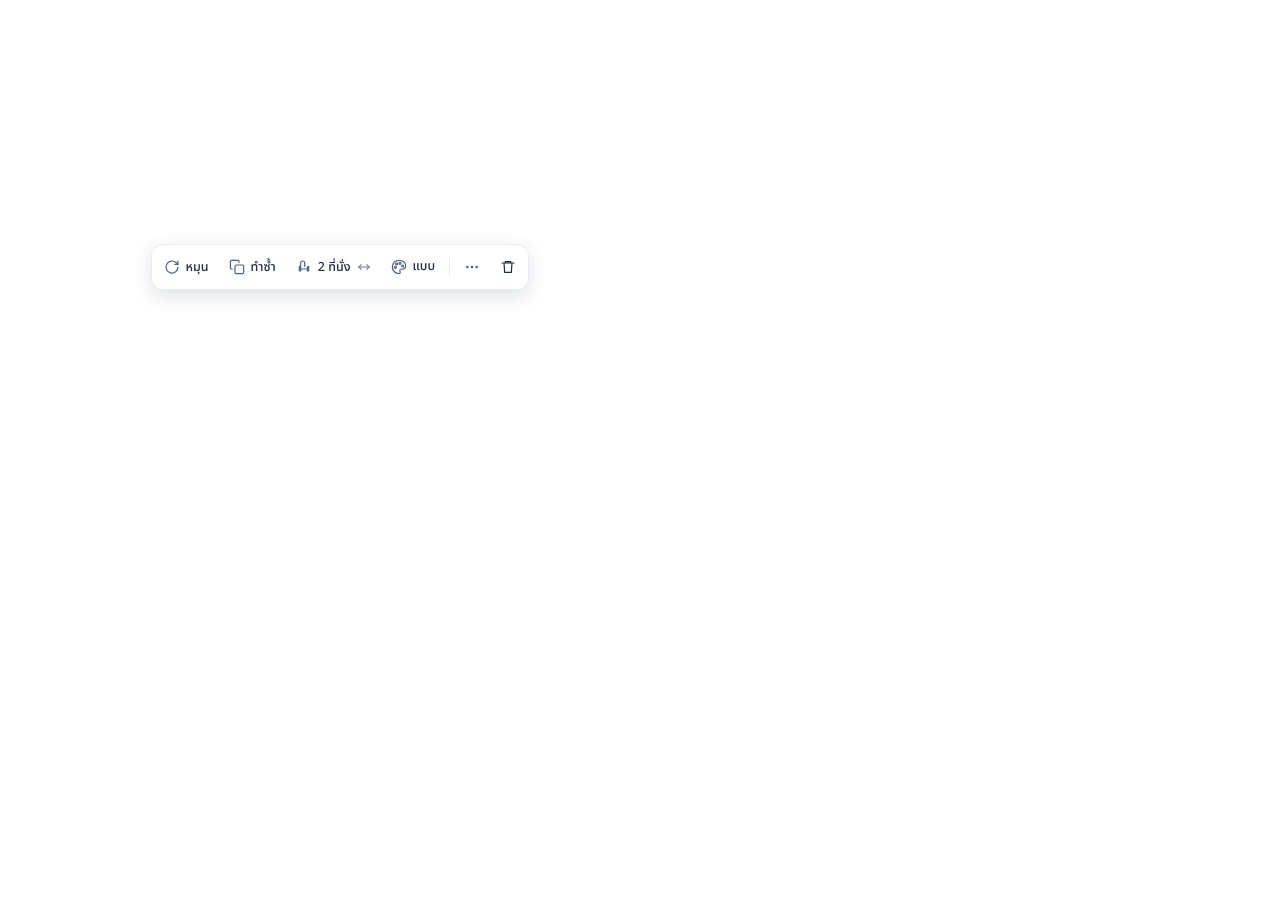
Test case: SelectionToolbar Component › ย้ายโฟกัสจากช่อง X ไป Y ป๊อปโอเวอร์ยังเปิดอยู่ — นำไปใช้ทั้งคู่เมื่อโฟกัสออกจากป๊อปโอเวอร์
The width and height of the screenshot is (1280, 900).
Click the button named "ปรับละเอียด". click: [472, 267]
box: [456,251,488,283]
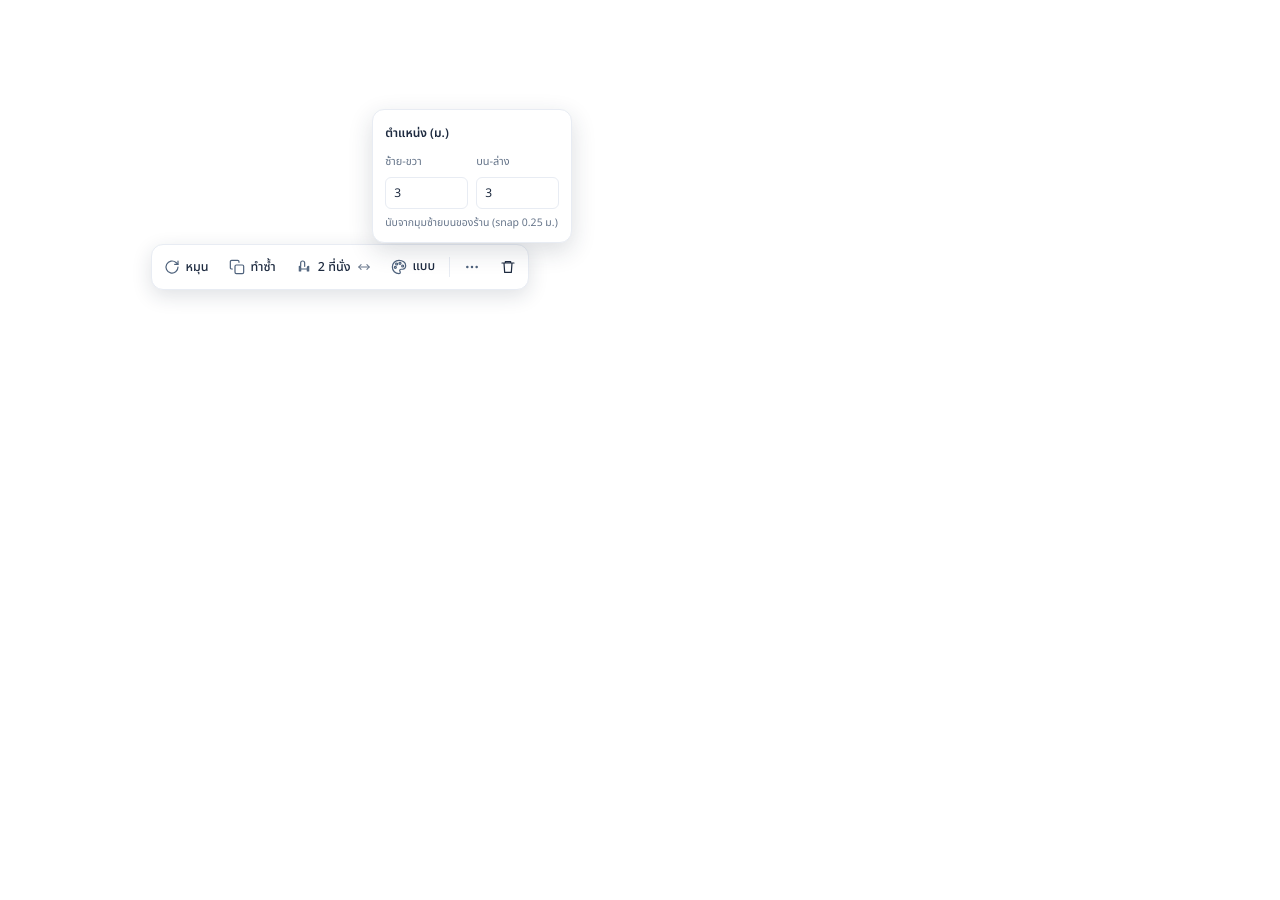
Replace the text in the number field labelled "ซ้าย-ขวา" with "2". click: [427, 193]
box: [385,177,468,209]
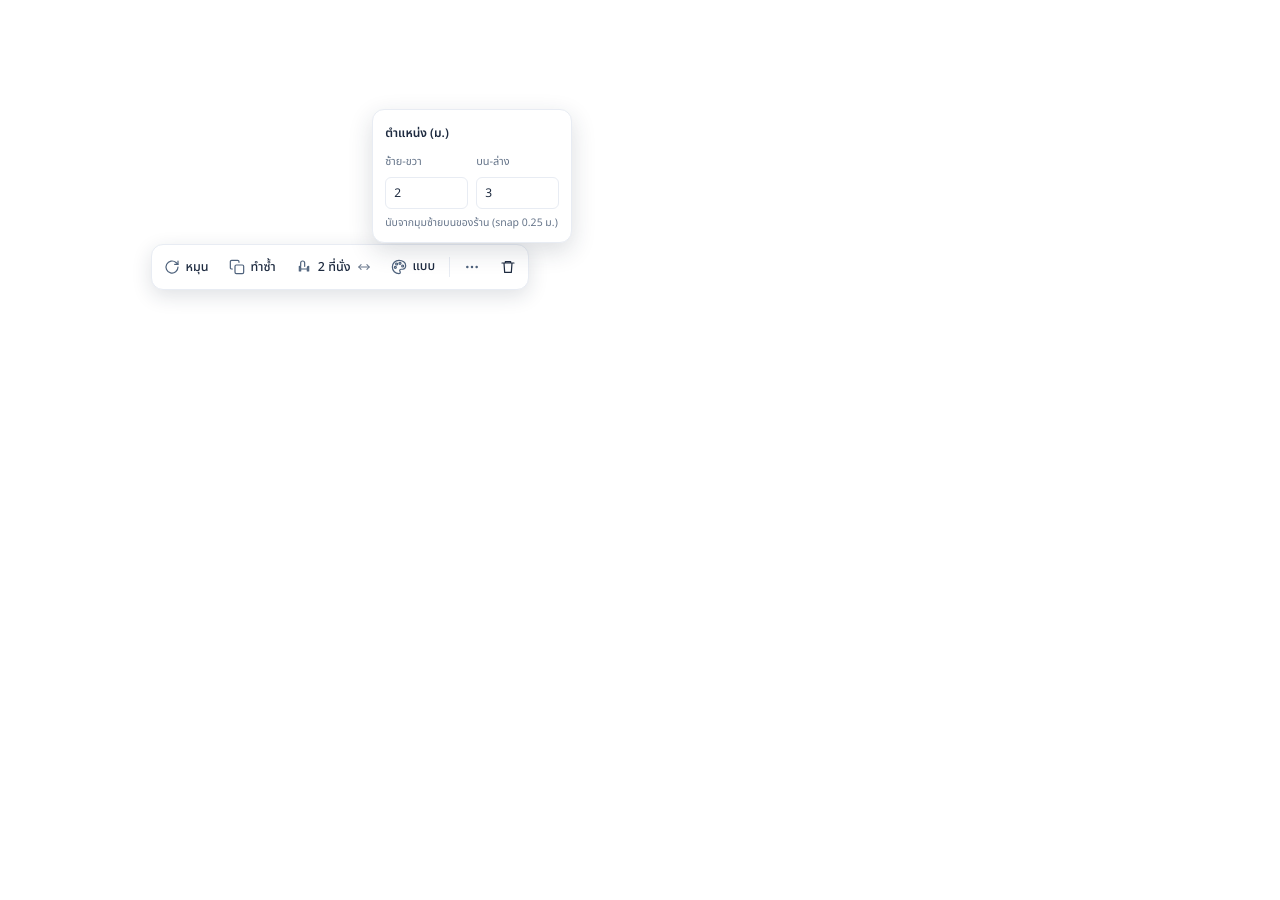
Expected: the dialog named "ปรับตำแหน่งละเอียด" is shown, [372,109,572,243]
Replace the text in the number field labelled "บน-ล่าง" with "3.1". click: [518, 193]
box: [476,177,559,209]
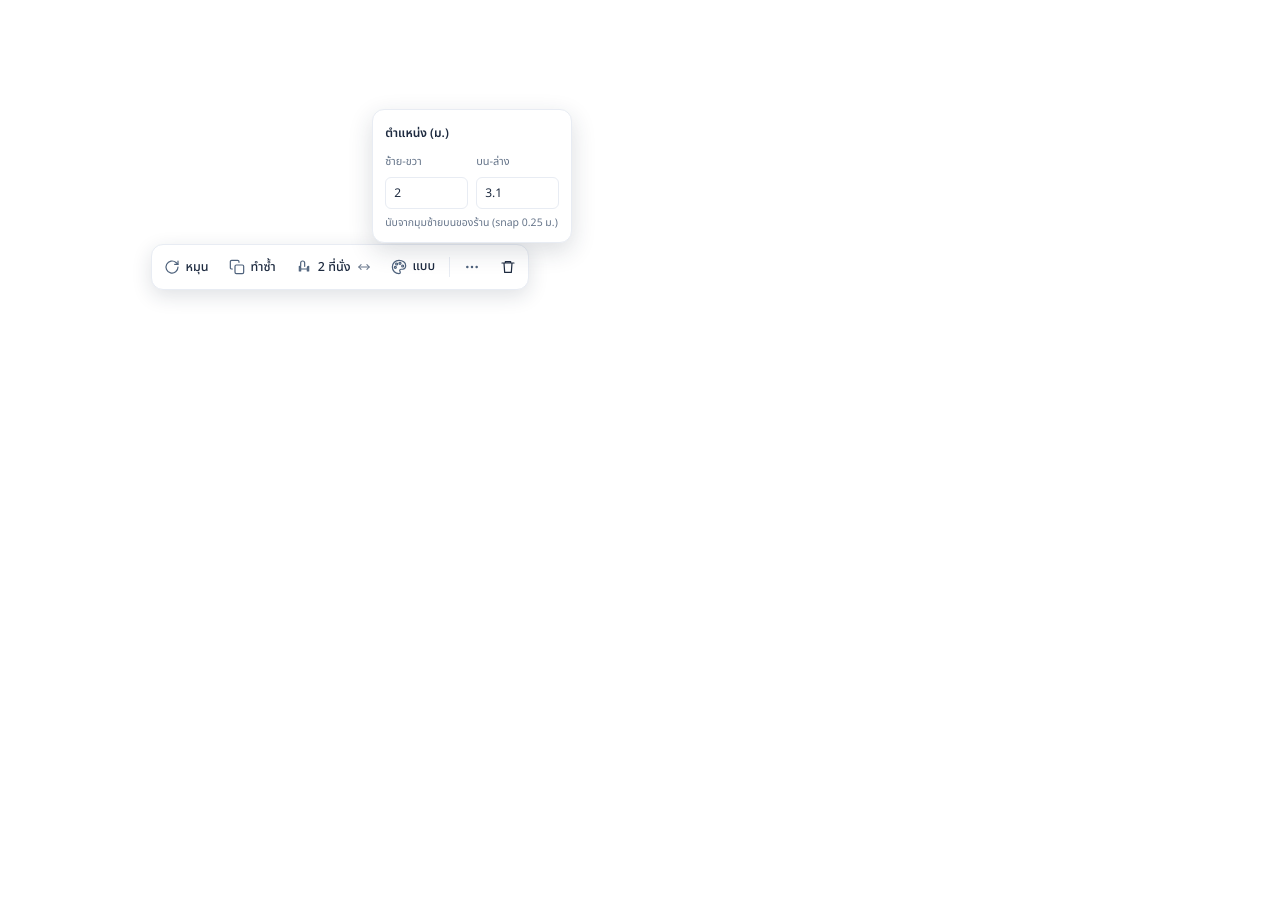
Leave the number field labelled "บน-ล่าง", box [476,177,559,209]
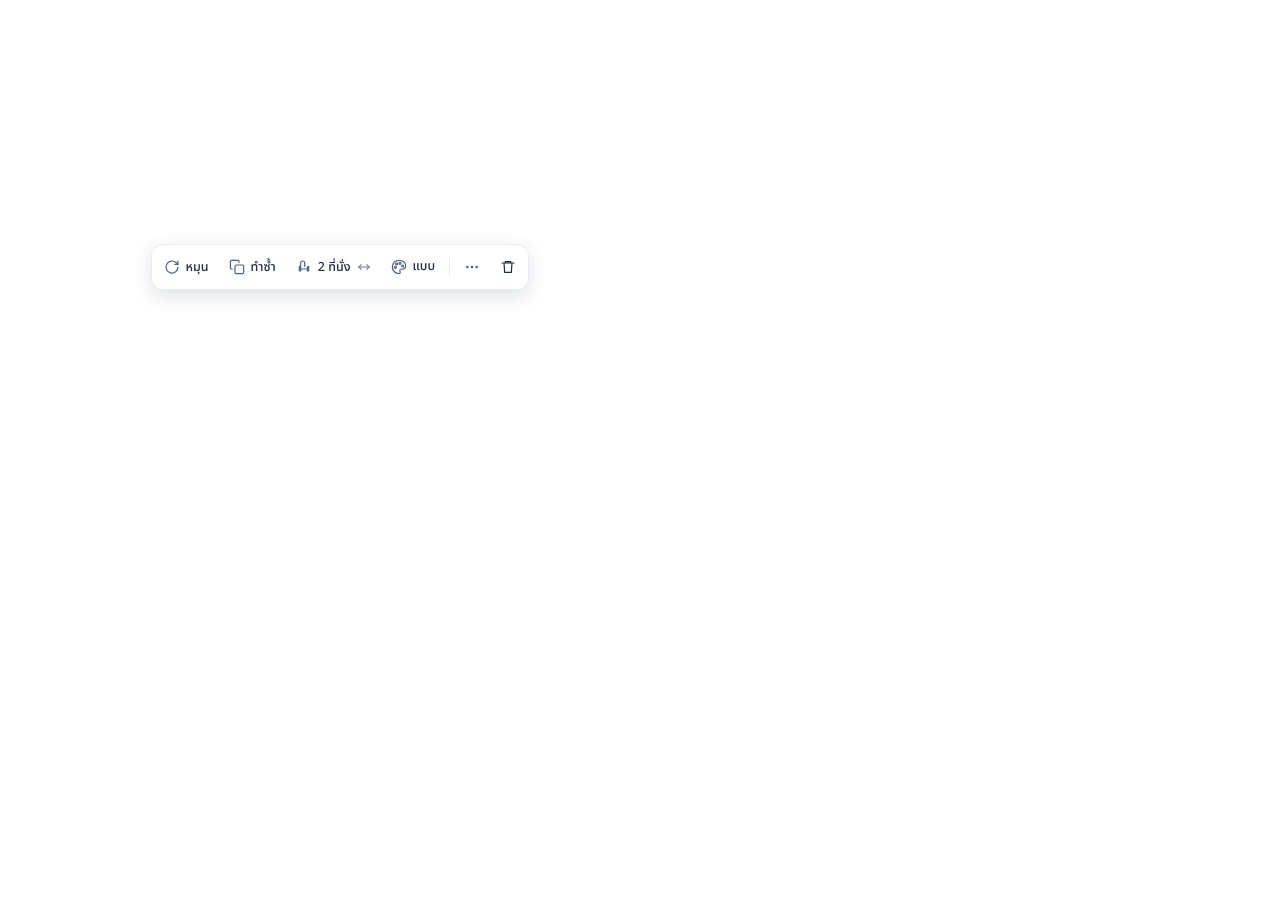
Expected: the dialog "ปรับตำแหน่งละเอียด" is gone
